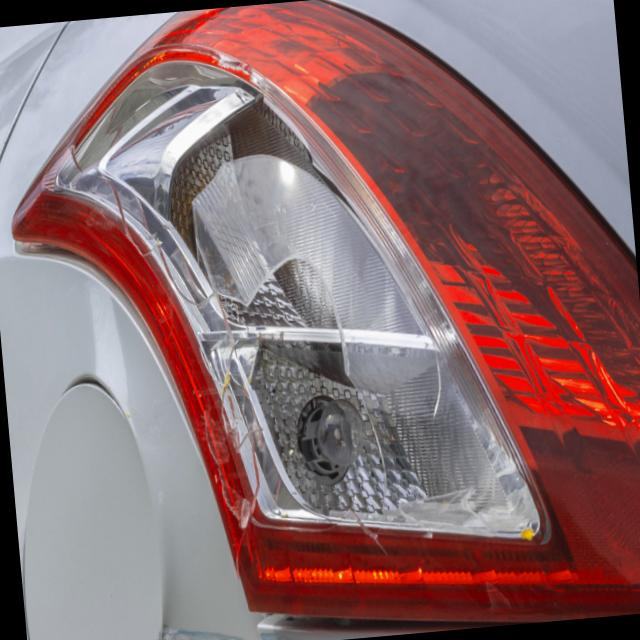Phare abime: (60, 28, 542, 576)
Rayure: (26, 610, 331, 640)
